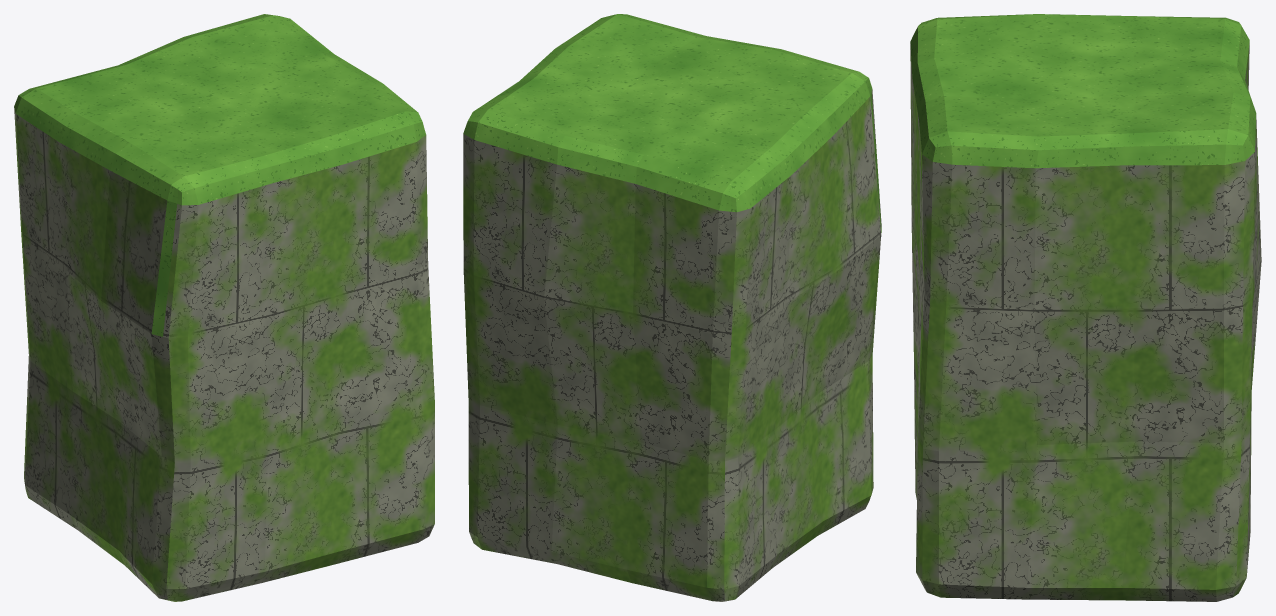
The model's file is CliffBlock_C.fbx.
3 views of the same model, side by side, from view 1: azimuth 30°, elevation 25°; view 2: azimuth 150°, elevation 25°; view 3: azimuth 270°, elevation 25° (orthographic). The views are drawn at different scales.
Parts seen in each view (by area): view 1: CliffBlock_C.001; view 2: CliffBlock_C.001; view 3: CliffBlock_C.001.
Boxes of the visible parts, left/top/right/bottom form: CliffBlock_C.001: left=14, top=14, right=434, bottom=601; CliffBlock_C.001: left=463, top=14, right=881, bottom=601; CliffBlock_C.001: left=910, top=14, right=1261, bottom=601.
Size of the model in its own units: 1.7 by 2.48 by 1.68.
